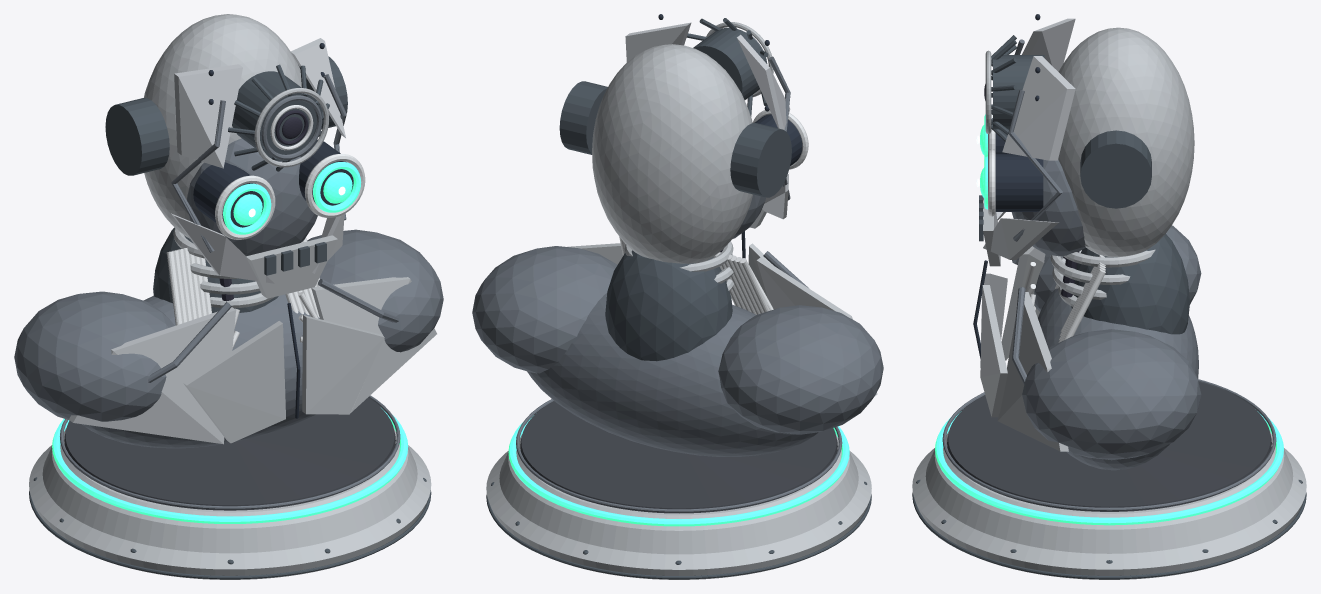
Rendered from echo_exe_display.glb.
The picture shows the model from 3 angles, left to right: view 1: azimuth 30°, elevation 25°; view 2: azimuth 150°, elevation 25°; view 3: azimuth 270°, elevation 25°; orthographic projection. The views are drawn at different scales.
Parts seen in each view (by area): view 1: TORSO_gunmetal, TORSO_brushed_silver, PODIUM_brushed_silver, PODIUM_charcoal, HEAD_brushed_silver, HEAD_dark_steel, HEAD_polished_silver, HEAD_gunmetal, PODIUM_green, HEAD_green, TORSO_bright_steel, HEAD_black (+5 smaller); view 2: TORSO_gunmetal, HEAD_brushed_silver, PODIUM_brushed_silver, PODIUM_charcoal, TORSO_dark_steel, HEAD_dark_steel, TORSO_brushed_silver, PODIUM_green, HEAD_polished_silver, PODIUM_dark_steel, PODIUM_gunmetal, TORSO_bright_steel (+3 smaller); view 3: PODIUM_brushed_silver, TORSO_gunmetal, HEAD_brushed_silver, PODIUM_charcoal, TORSO_brushed_silver, HEAD_polished_silver, HEAD_dark_steel, TORSO_dark_steel, HEAD_gunmetal, PODIUM_green, HEAD_black, PODIUM_gunmetal (+4 smaller).
Boxes of the visible parts, x1=… form: TORSO_gunmetal: x1=14, y1=229, x2=443, y2=448; TORSO_brushed_silver: x1=68, y1=228, x2=436, y2=444; PODIUM_brushed_silver: x1=29, y1=428, x2=431, y2=579; PODIUM_charcoal: x1=64, y1=398, x2=395, y2=510; HEAD_brushed_silver: x1=144, y1=14, x2=337, y2=298; HEAD_dark_steel: x1=105, y1=56, x2=347, y2=275; HEAD_polished_silver: x1=171, y1=38, x2=345, y2=283; HEAD_gunmetal: x1=171, y1=74, x2=346, y2=256; PODIUM_green: x1=52, y1=408, x2=408, y2=523; HEAD_green: x1=223, y1=162, x2=361, y2=234; TORSO_bright_steel: x1=166, y1=237, x2=319, y2=348; HEAD_black: x1=193, y1=43, x2=353, y2=227; TORSO_gunmetal: x1=472, y1=246, x2=883, y2=456; HEAD_brushed_silver: x1=592, y1=22, x2=773, y2=263; PODIUM_brushed_silver: x1=486, y1=434, x2=871, y2=579; PODIUM_charcoal: x1=520, y1=401, x2=837, y2=513; TORSO_dark_steel: x1=605, y1=250, x2=732, y2=361; HEAD_dark_steel: x1=559, y1=18, x2=791, y2=197; TORSO_brushed_silver: x1=567, y1=241, x2=877, y2=396; PODIUM_green: x1=508, y1=415, x2=849, y2=526; HEAD_polished_silver: x1=625, y1=22, x2=790, y2=219; PODIUM_dark_steel: x1=486, y1=481, x2=871, y2=579; PODIUM_gunmetal: x1=516, y1=399, x2=842, y2=512; TORSO_bright_steel: x1=619, y1=236, x2=773, y2=314; PODIUM_brushed_silver: x1=912, y1=431, x2=1306, y2=579; TORSO_gunmetal: x1=1012, y1=225, x2=1201, y2=470; HEAD_brushed_silver: x1=983, y1=27, x2=1194, y2=266; PODIUM_charcoal: x1=947, y1=381, x2=1271, y2=511; TORSO_brushed_silver: x1=980, y1=244, x2=1155, y2=451; HEAD_polished_silver: x1=983, y1=18, x2=1075, y2=259; HEAD_dark_steel: x1=979, y1=35, x2=1151, y2=241; TORSO_dark_steel: x1=1071, y1=234, x2=1189, y2=334; HEAD_gunmetal: x1=1008, y1=39, x2=1085, y2=256; PODIUM_green: x1=935, y1=411, x2=1283, y2=525; HEAD_black: x1=995, y1=14, x2=1043, y2=211; PODIUM_gunmetal: x1=942, y1=379, x2=1276, y2=510.
Size of the model in its own units: 2.04 by 2.31 by 1.76.
